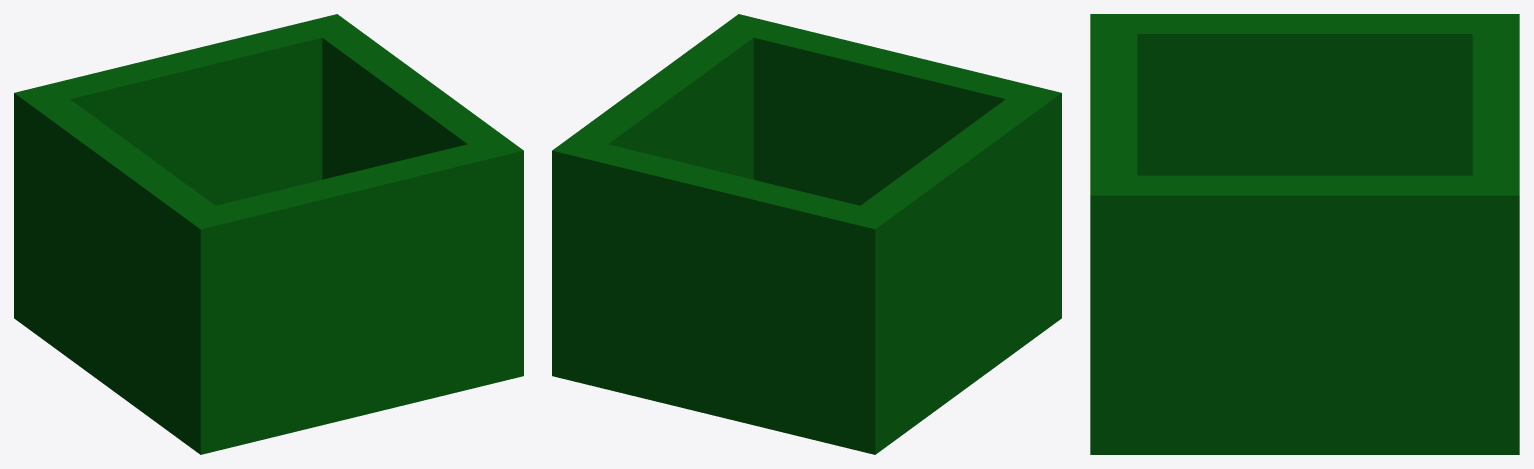
File: greenBox.fbx
The picture shows the model from 3 angles, left to right: view 1: azimuth 30°, elevation 25°; view 2: azimuth 150°, elevation 25°; view 3: azimuth 270°, elevation 25°; orthographic projection. The views are drawn at different scales.
Visible parts, largest first — view 1: greenCube; view 2: greenCube; view 3: greenCube.
Part boxes in pixels (x1,y1,x2,y2): greenCube: (14, 14, 523, 454); greenCube: (552, 14, 1061, 454); greenCube: (1090, 14, 1519, 454).
Bounding box in the file's own units: 60 × 40 × 60.
